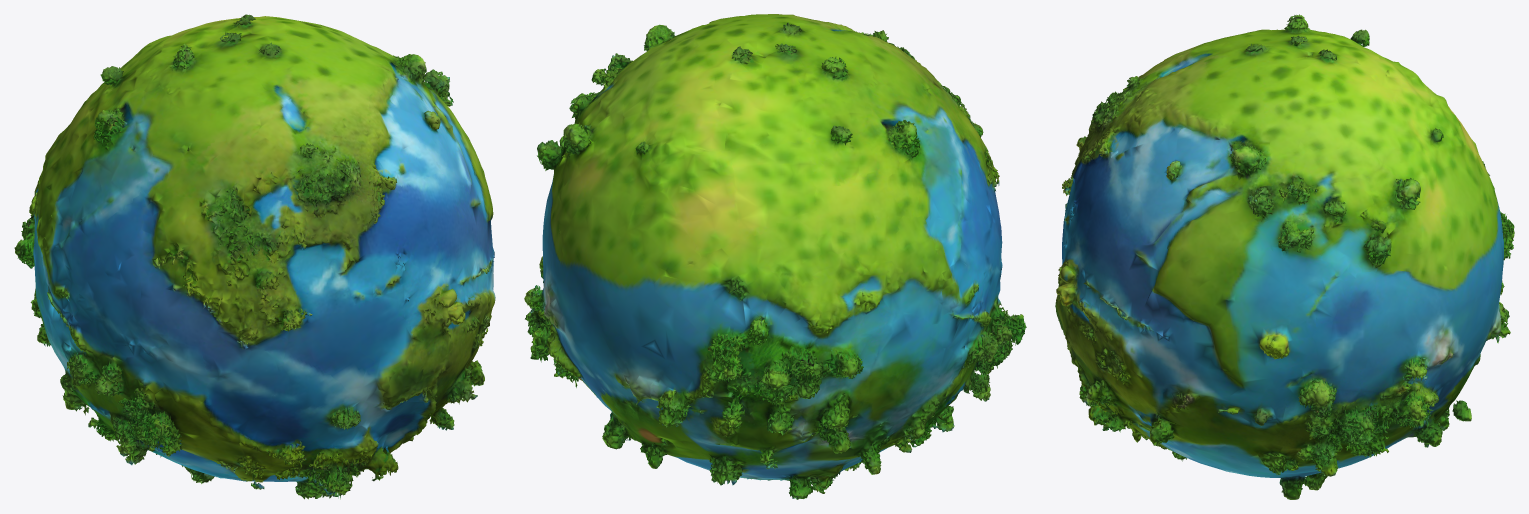
The model's file is small_planet.glb.
3 renders of one model, left to right at view 1: azimuth 30°, elevation 25°; view 2: azimuth 150°, elevation 25°; view 3: azimuth 270°, elevation 25°, orthographic. The views are drawn at different scales.
Size of the model in its own units: 2 by 1.99 by 1.99.
1 material, 1 textured.
